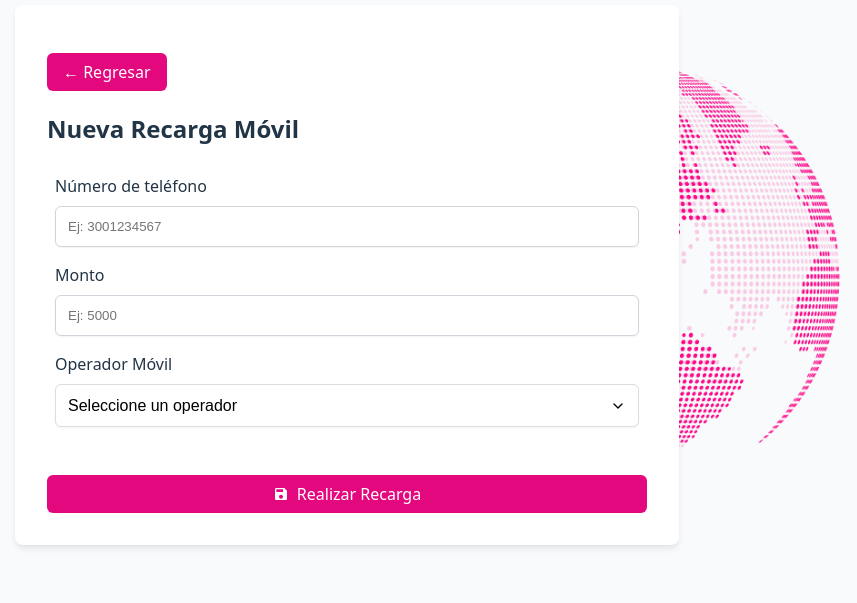
NewRecharge › debería mostrar error si processRecharge falla
Check: the heading "Nueva Recarga Móvil" is shown, box [47, 112, 299, 144]
Type "3001234567" into the number field with placeholder "Ej: 3001234567" at (347, 227), box [55, 206, 639, 247]
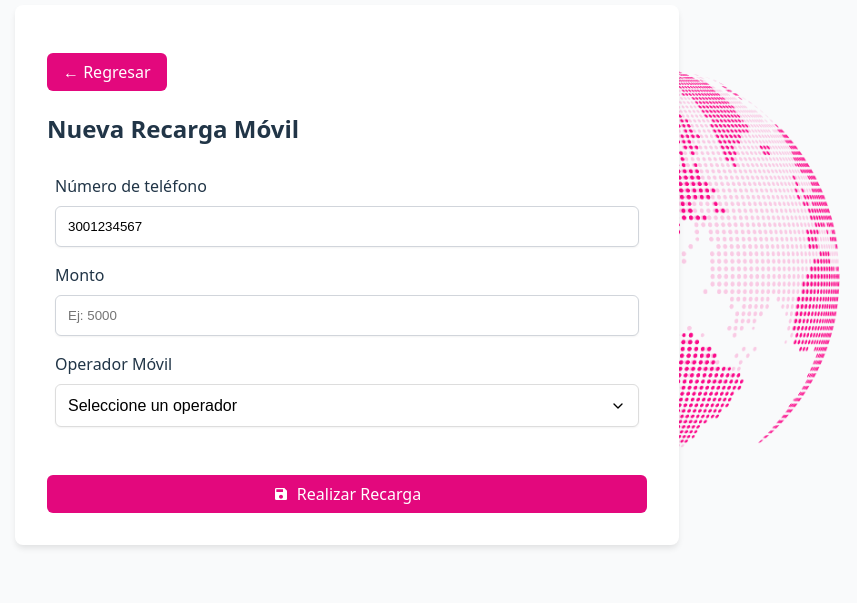
Type "5000" into the number field with placeholder "Ej: 5000" at (347, 316), box [55, 295, 639, 336]
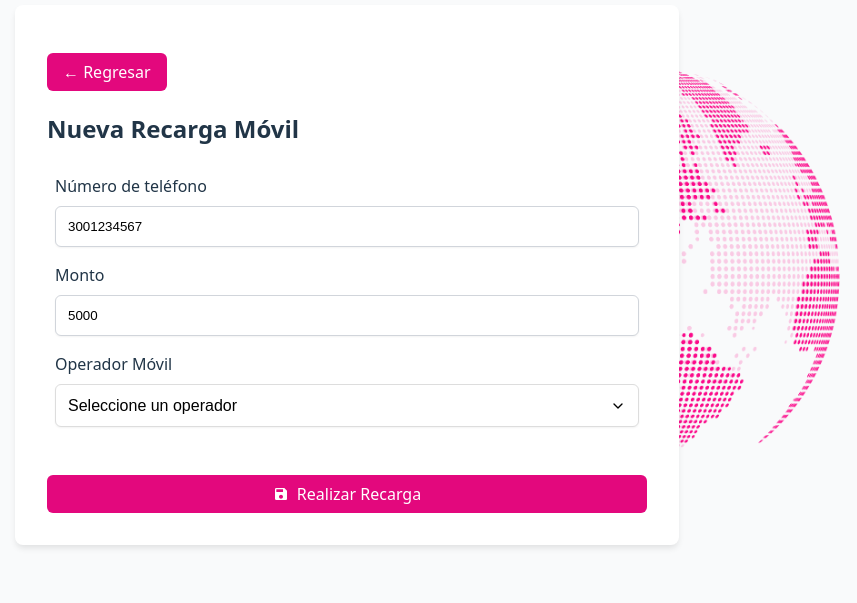
Select "Claro" in the dropdown at (347, 406), box [55, 384, 639, 427]
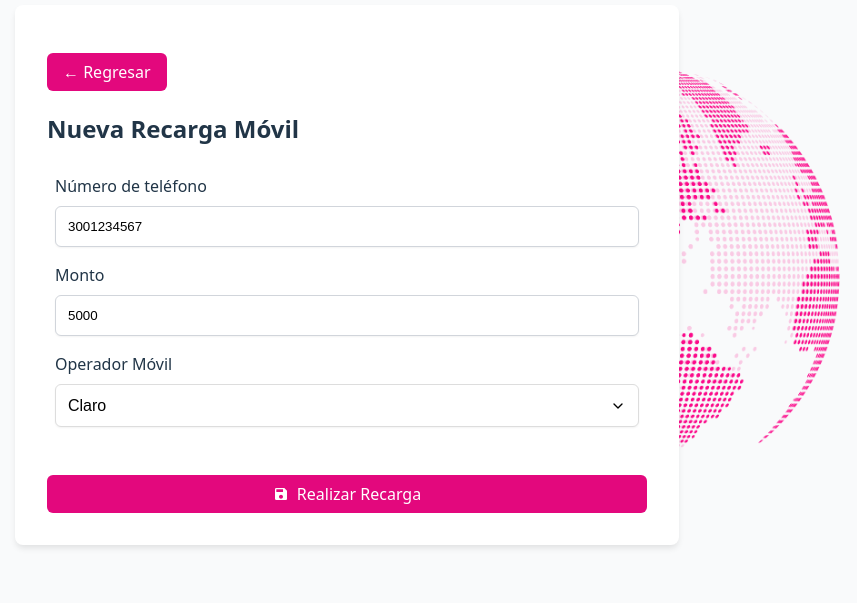
Submit the form from the button "Realizar Recarga", box [47, 475, 647, 513]
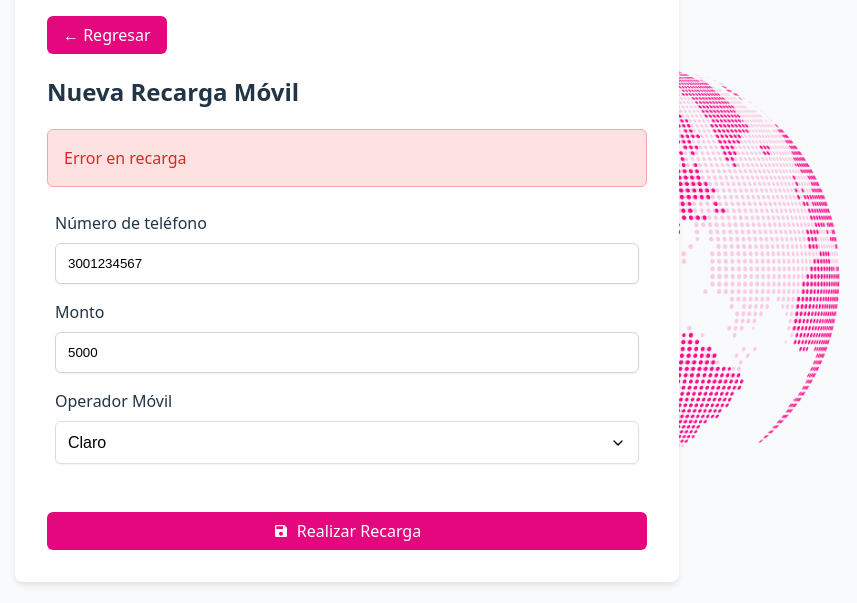
Check: the text "Error en recarga" is shown, box [47, 129, 647, 187]
